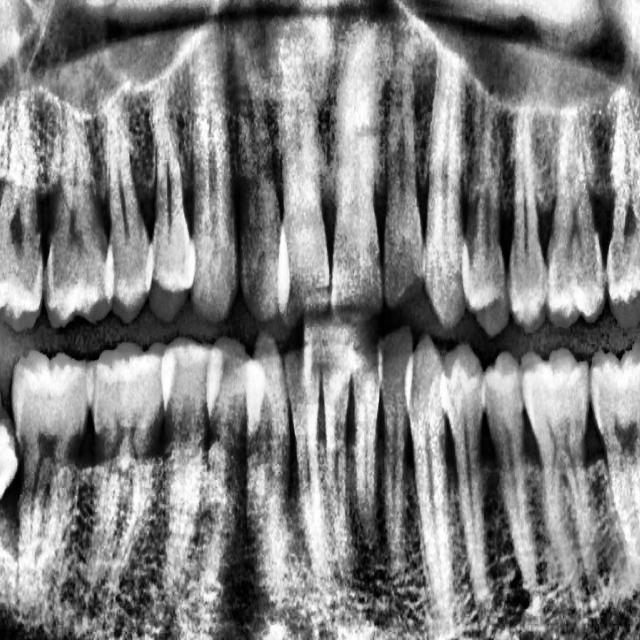Impacted Tooth: (0, 351, 29, 564)
